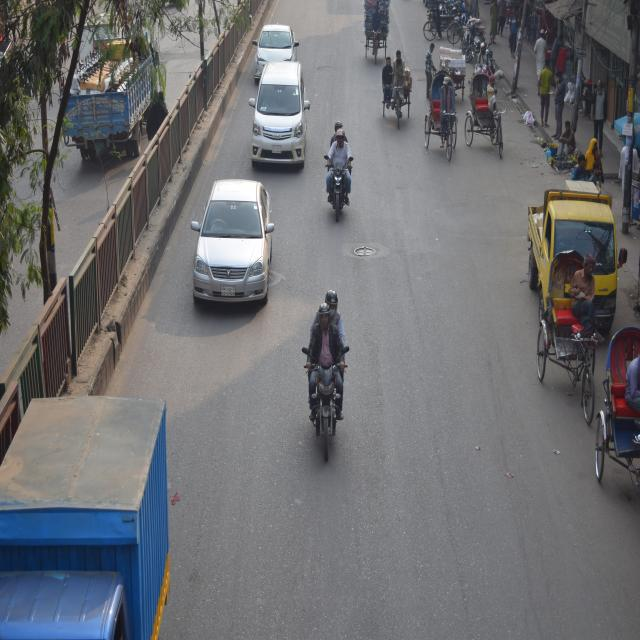car: (186, 169, 285, 319), (258, 19, 297, 70)
microbus: (242, 54, 311, 178)
motorbike: (295, 286, 374, 475), (318, 120, 369, 240)
pickup-van: (0, 380, 201, 635), (524, 177, 626, 332)
